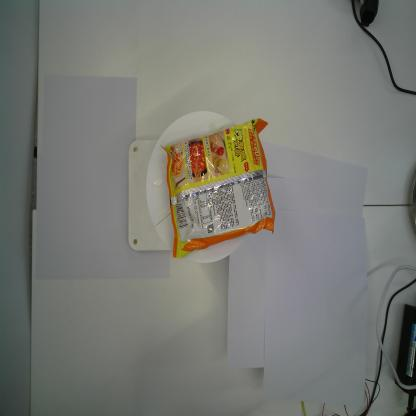Instant Noodles: (159, 116, 277, 261)
